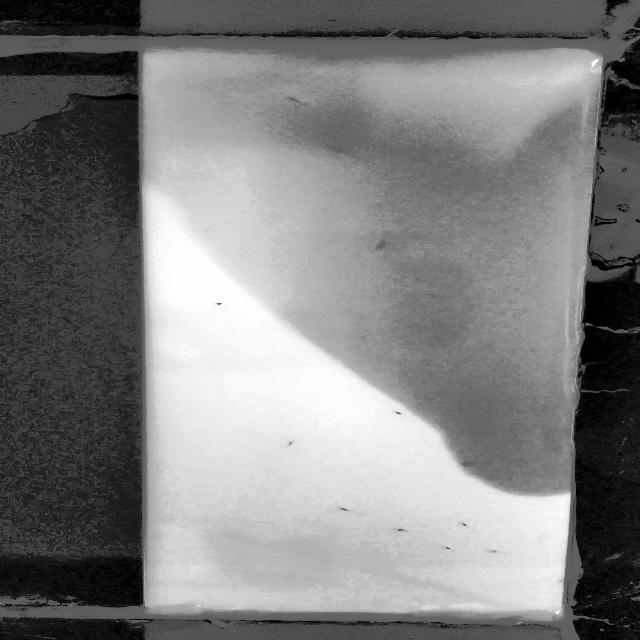shrimp: (268, 90, 307, 110), (321, 145, 361, 160), (445, 454, 474, 474), (316, 50, 352, 66), (202, 296, 237, 312), (449, 515, 479, 533), (434, 540, 464, 556), (385, 406, 410, 422), (367, 240, 393, 253), (390, 523, 410, 537), (278, 438, 305, 448), (332, 504, 354, 514)
